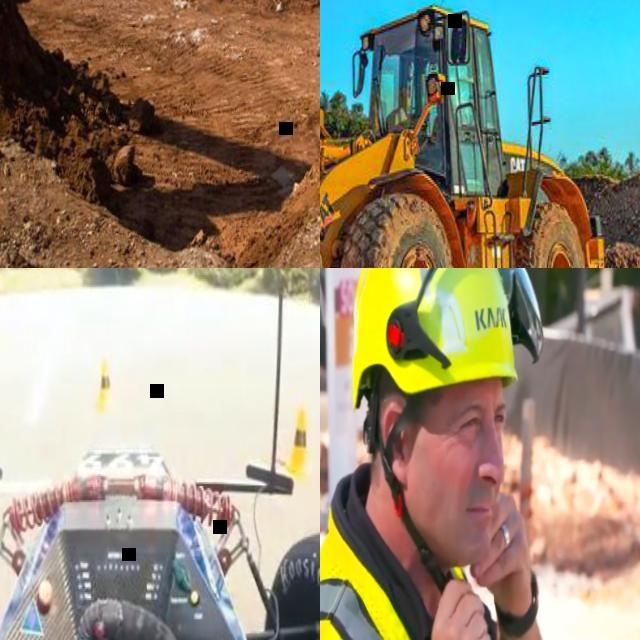Hardhat: (346, 268, 521, 414)
NO-Mask: (415, 435, 508, 570)
Person: (320, 268, 555, 640)
Safety Cone: (283, 408, 318, 468), (90, 356, 121, 399), (0, 344, 7, 377)
Safety Vest: (320, 506, 515, 640)
machinery: (320, 0, 612, 268)
vehicle: (0, 291, 320, 640)
